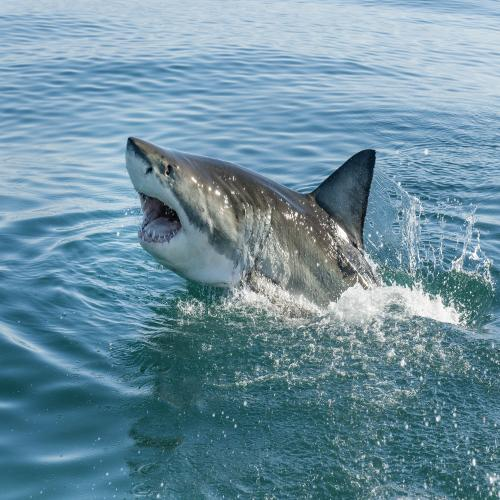shark-endangered: (119, 125, 410, 346)
